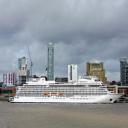cruises: (8, 75, 127, 106)
